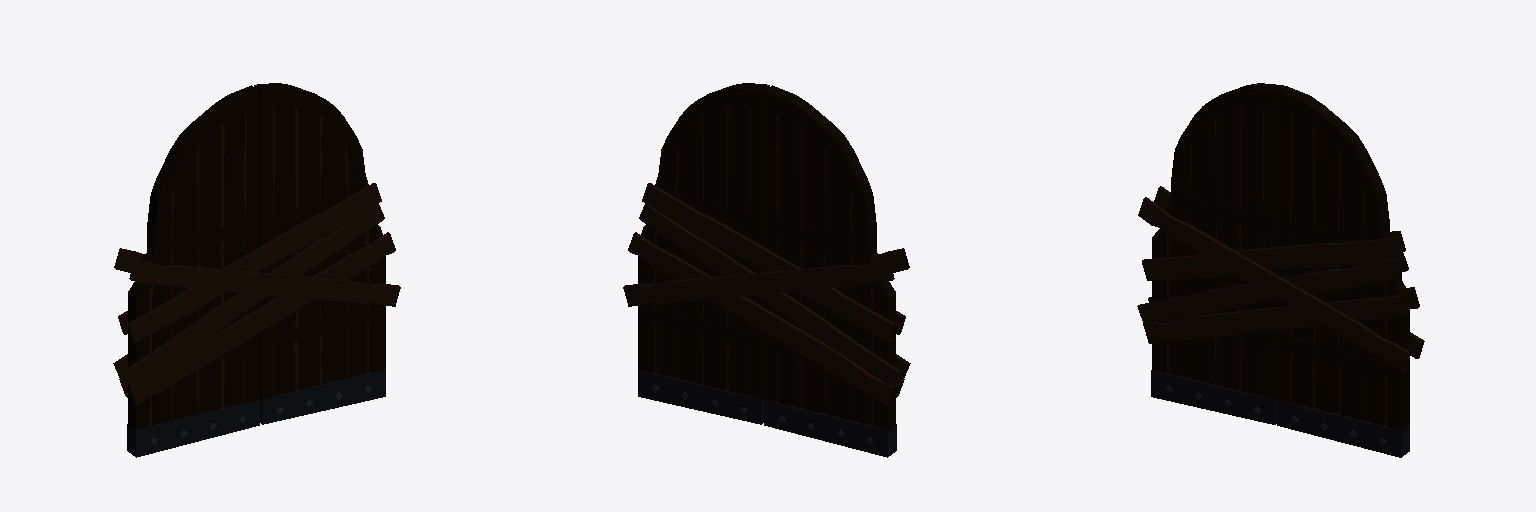
The model's file is Doors_RoundArch_Covered.obj.
3 views of the same model, side by side, from view 1: azimuth 30°, elevation 25°; view 2: azimuth 150°, elevation 25°; view 3: azimuth 330°, elevation 25° (orthographic).
Visible parts, largest first — view 1: Doors_RoundArch_Covered_Cylinder.031; view 2: Doors_RoundArch_Covered_Cylinder.031; view 3: Doors_RoundArch_Covered_Cylinder.031.
Boxes of the visible parts, x1=… form: Doors_RoundArch_Covered_Cylinder.031: x1=113, y1=83, x2=400, y2=457; Doors_RoundArch_Covered_Cylinder.031: x1=623, y1=83, x2=910, y2=457; Doors_RoundArch_Covered_Cylinder.031: x1=1137, y1=83, x2=1424, y2=457.
Bounding box in the file's own units: 2.52 × 2.97 × 0.2789.